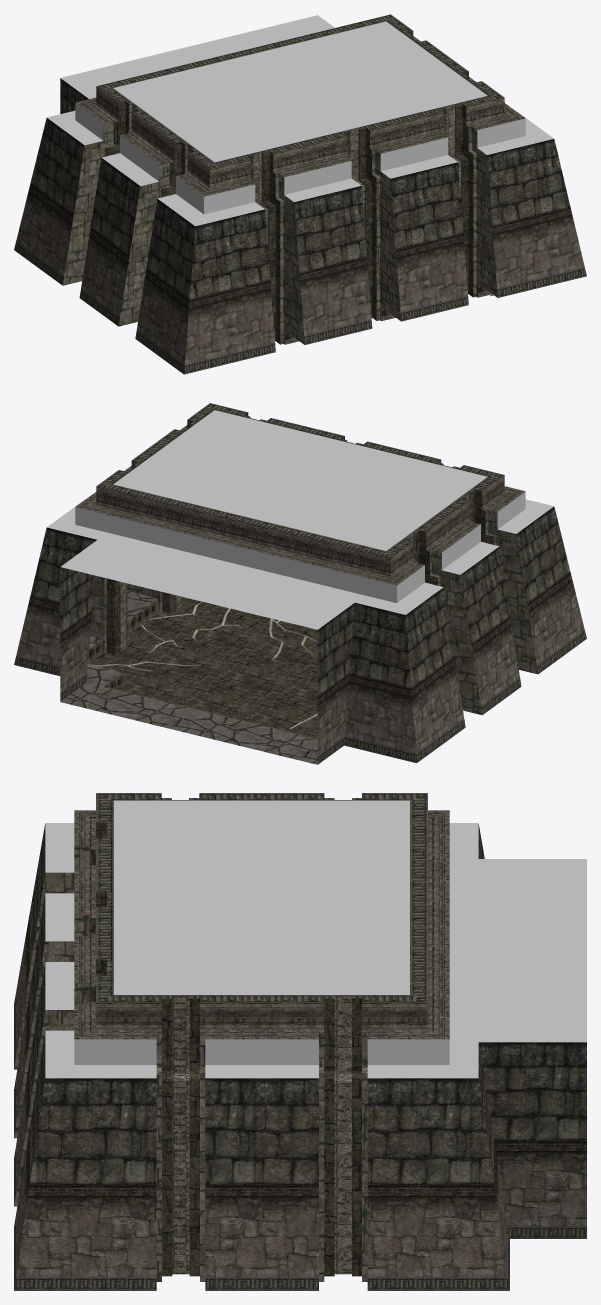
The model's file is thm_yavn_temple_exar_kun_r14_mesh_r14.fbx.
The picture shows the model from 3 angles, top to bottom: view 1: azimuth 30°, elevation 25°; view 2: azimuth 150°, elevation 25°; view 3: azimuth 270°, elevation 25°; orthographic projection. The views are drawn at different scales.
Parts seen in each view (by area): view 1: mesh_node; view 2: mesh_node; view 3: mesh_node.
Part boxes in pixels (box(x1,y1,x2,y2)): mesh_node: box(14, 14, 586, 374); mesh_node: box(14, 403, 586, 764); mesh_node: box(14, 793, 586, 1290).
Bounding box in the file's own units: 12.52 × 5.56 × 10.58.
